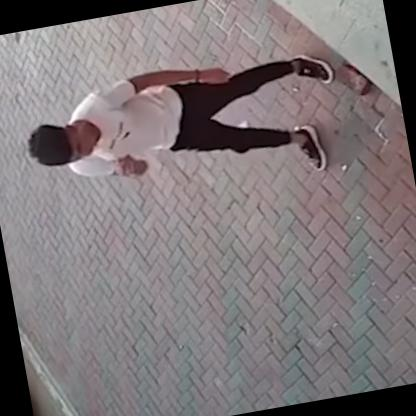Human Body: (19, 39, 350, 218)
